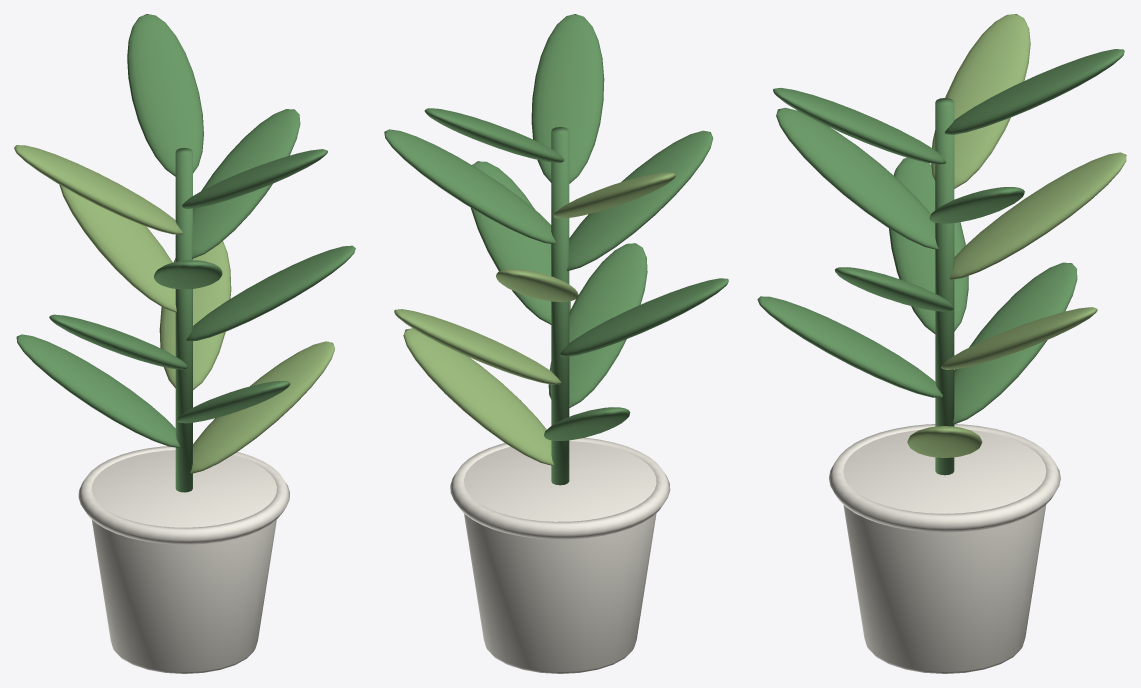
Rendered from atelier-medium-potted-plant.glb.
3 views of the same model, side by side, from view 1: azimuth 30°, elevation 25°; view 2: azimuth 150°, elevation 25°; view 3: azimuth 270°, elevation 25° (orthographic). The views are drawn at different scales.
Visible parts, largest first — view 1: leaf.001, ceramic.037, leafLight.001; view 2: leaf.001, ceramic.037, leafLight.001; view 3: leaf.001, ceramic.037, leafLight.001.
Boxes of the visible parts, bbox=[...] form: leaf.001: bbox=[16, 14, 355, 492]; ceramic.037: bbox=[78, 446, 289, 673]; leafLight.001: bbox=[14, 145, 334, 473]; leaf.001: bbox=[384, 14, 728, 485]; ceramic.037: bbox=[450, 437, 670, 673]; leafLight.001: bbox=[394, 172, 675, 465]; leaf.001: bbox=[757, 49, 1124, 475]; ceramic.037: bbox=[829, 424, 1060, 673]; leafLight.001: bbox=[907, 14, 1126, 457].
Size of the model in its own units: 0.5954 by 1.08 by 0.5885.
